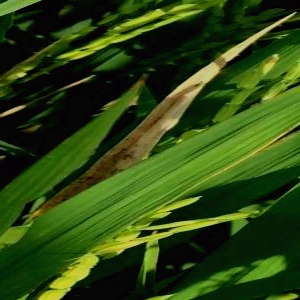Leaf_Blast: (210, 116, 298, 178)
